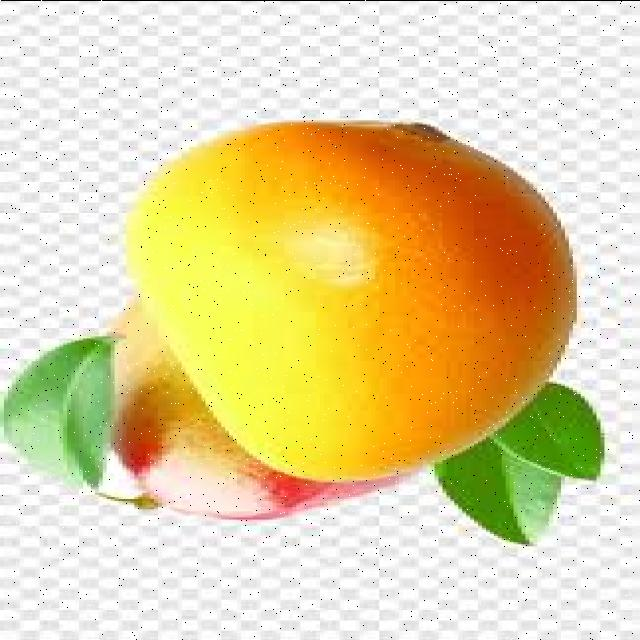mango: (126, 121, 561, 482)
